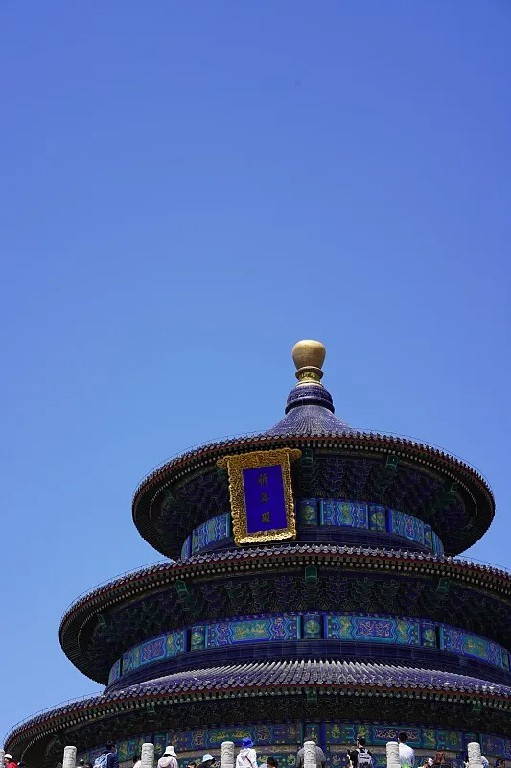Heaven: (3, 339, 509, 768)
